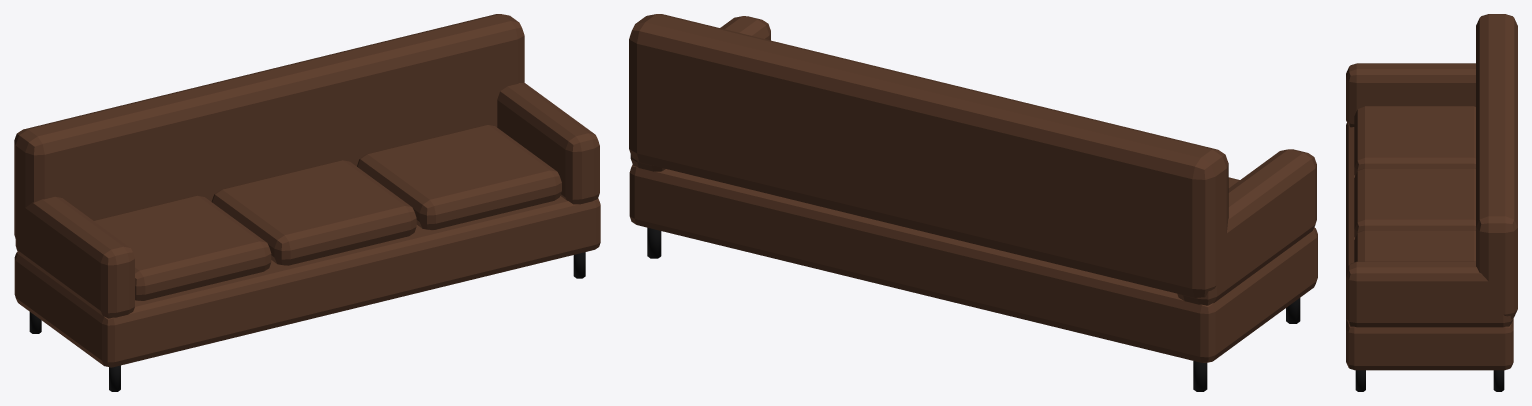
File: sofa.glb
3 renders of one model, left to right at view 1: azimuth 30°, elevation 25°; view 2: azimuth 150°, elevation 25°; view 3: azimuth 270°, elevation 25°, orthographic. The views are drawn at different scales.
Parts seen in each view (by area): view 1: sofa; view 2: sofa; view 3: sofa.
Boxes of the visible parts, bbox=[...] form: sofa: bbox=[14, 14, 600, 391]; sofa: bbox=[629, 14, 1317, 391]; sofa: bbox=[1346, 14, 1517, 391].
Size of the model in its own units: 2.4 by 0.925 by 0.82.
1 material, 1 textured.
